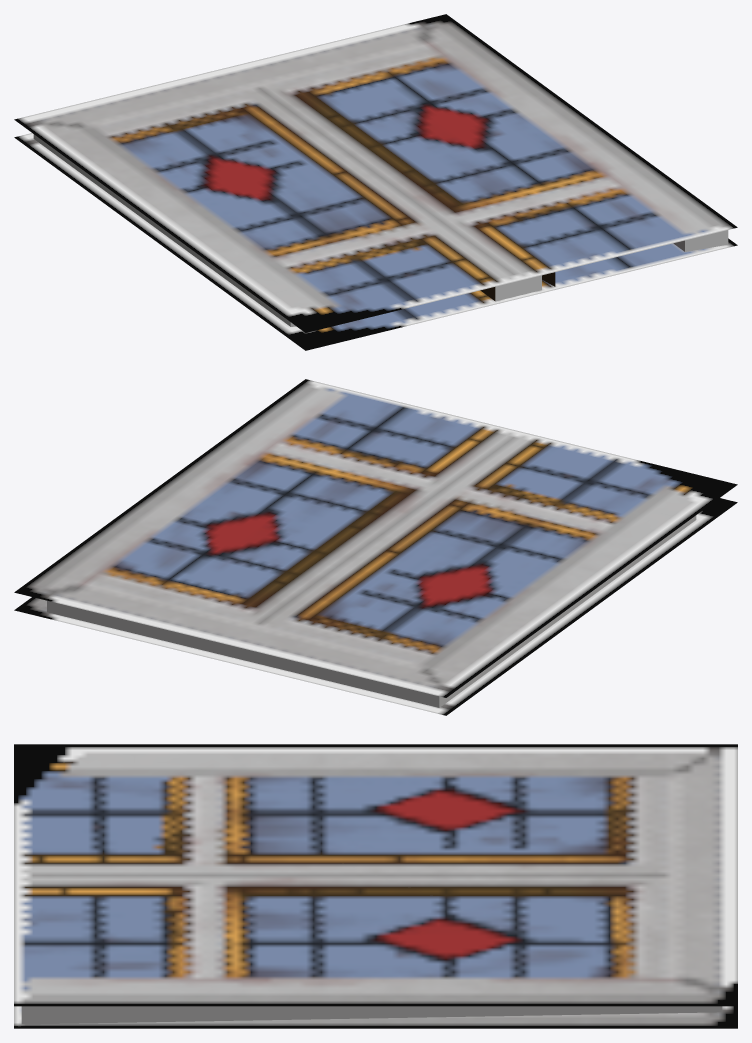
File: pz_native_location_community_church_small_01_127_frame.obj
3 views of the same model, one above another, from view 1: azimuth 30°, elevation 25°; view 2: azimuth 150°, elevation 25°; view 3: azimuth 270°, elevation 25° (orthographic). The views are drawn at different scales.
Parts seen in each view (by area): view 1: pz_native_location_community_church_small_01_127_frame; view 2: pz_native_location_community_church_small_01_127_frame; view 3: pz_native_location_community_church_small_01_127_frame.
Boxes of the visible parts, <box> form: pz_native_location_community_church_small_01_127_frame: <box>14,14,737,350</box>; pz_native_location_community_church_small_01_127_frame: <box>14,379,737,715</box>; pz_native_location_community_church_small_01_127_frame: <box>14,744,737,1028</box>.
Size of the model in its own units: 1.02 by 0.04 by 1.19.
Materials: 1 (1 with a texture image).
